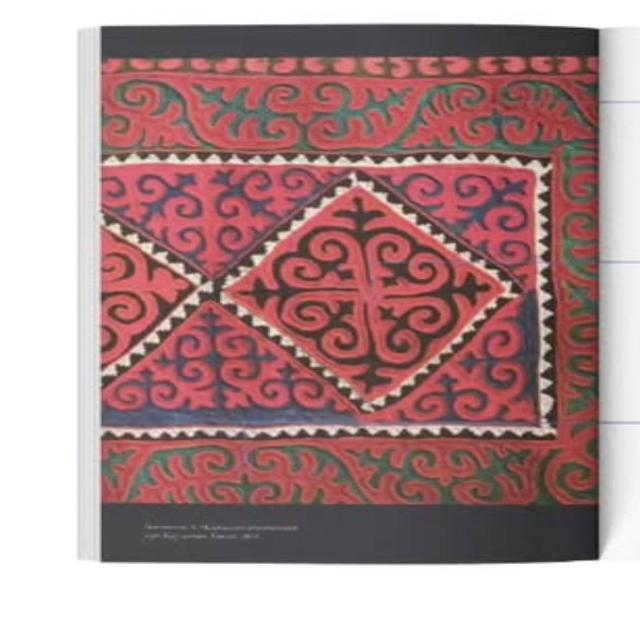Unity: (232, 193, 506, 402), (99, 232, 186, 367)
